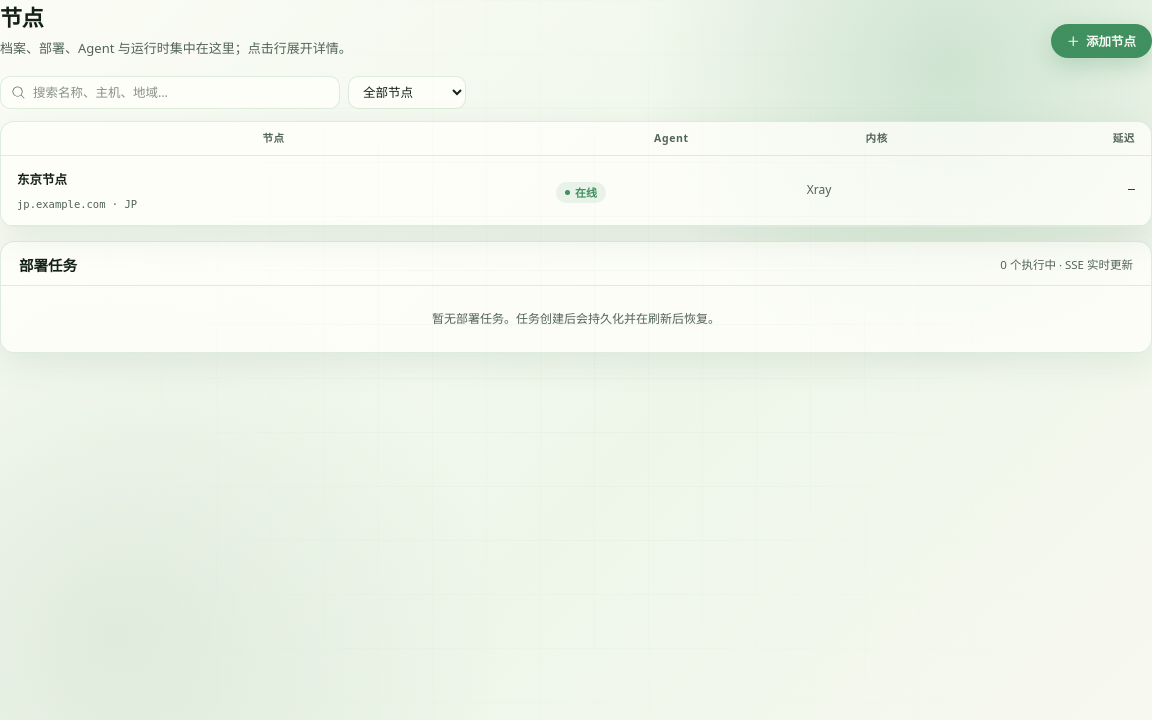
Test case: Default local node display › shows the API online heartbeat state and preserves failure diagnostics
Check: the text "在线" is shown, box 556,182 -> 606,203
Step 1. Click the text "东京节点" → (576, 190), box 1,155 -> 1151,226
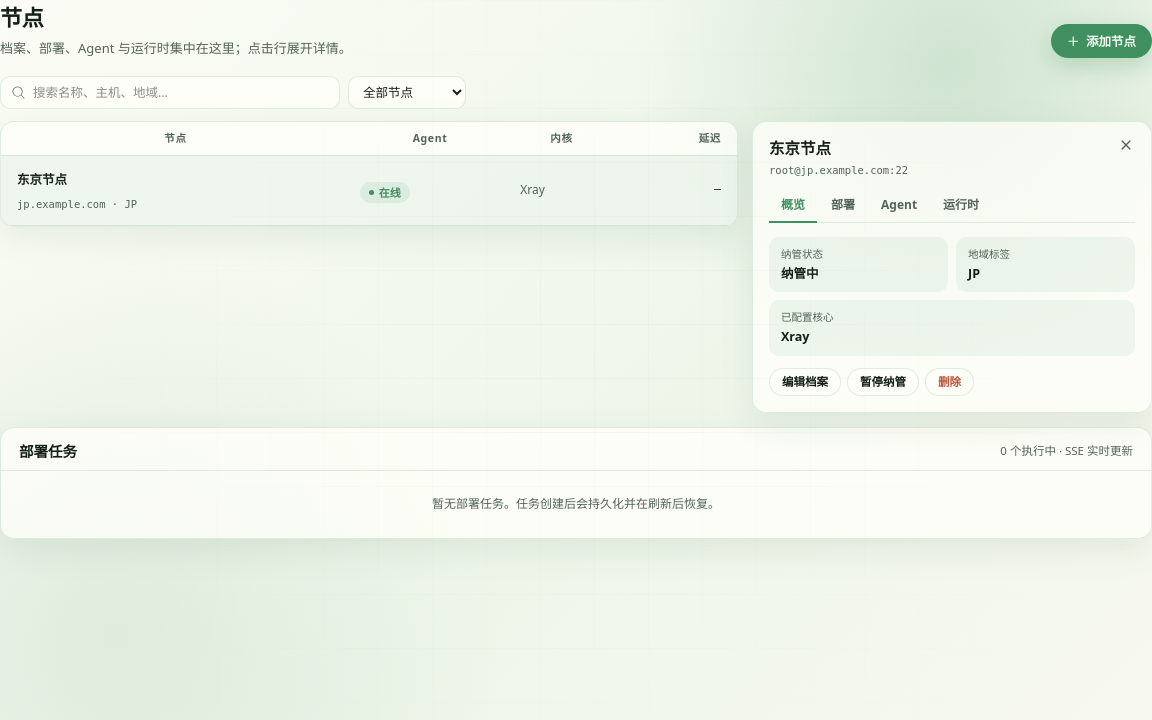
Step 2. Click the button "Agent" → (899, 206), box 869,190 -> 929,222
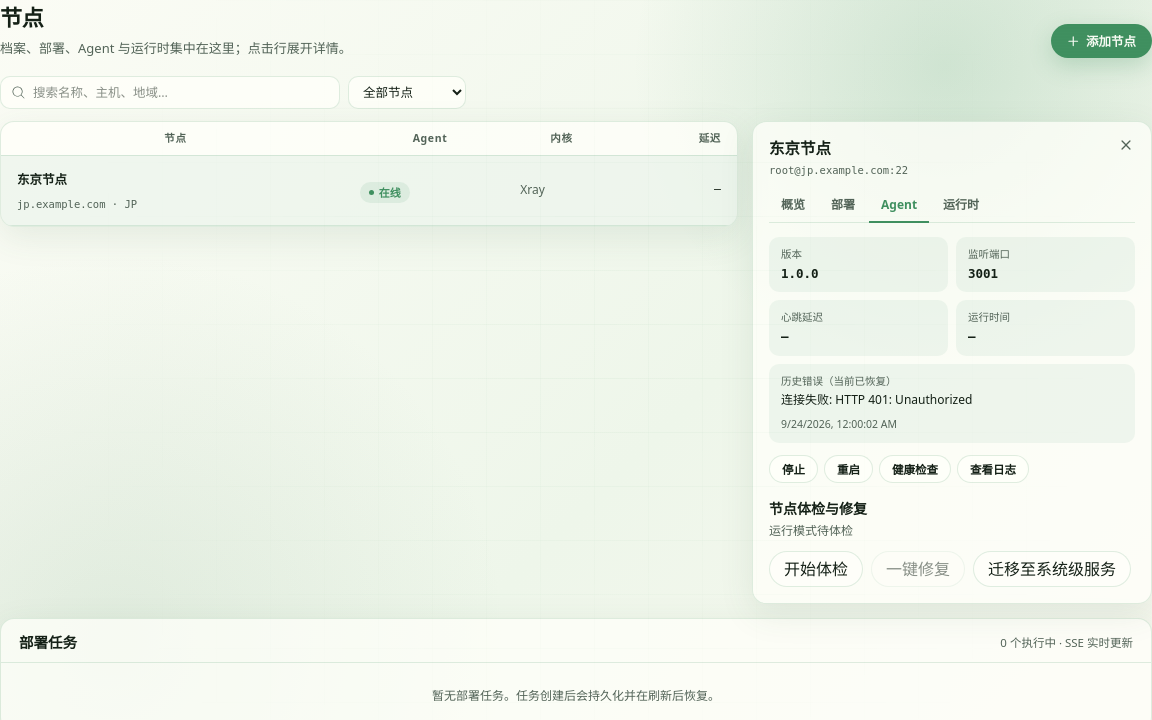
Check: the text "历史错误（当前已恢复）" is shown, box 781,374 -> 896,388
Check: the text "连接失败: HTTP 401: Unauthorized" is shown, box 781,391 -> 972,408
